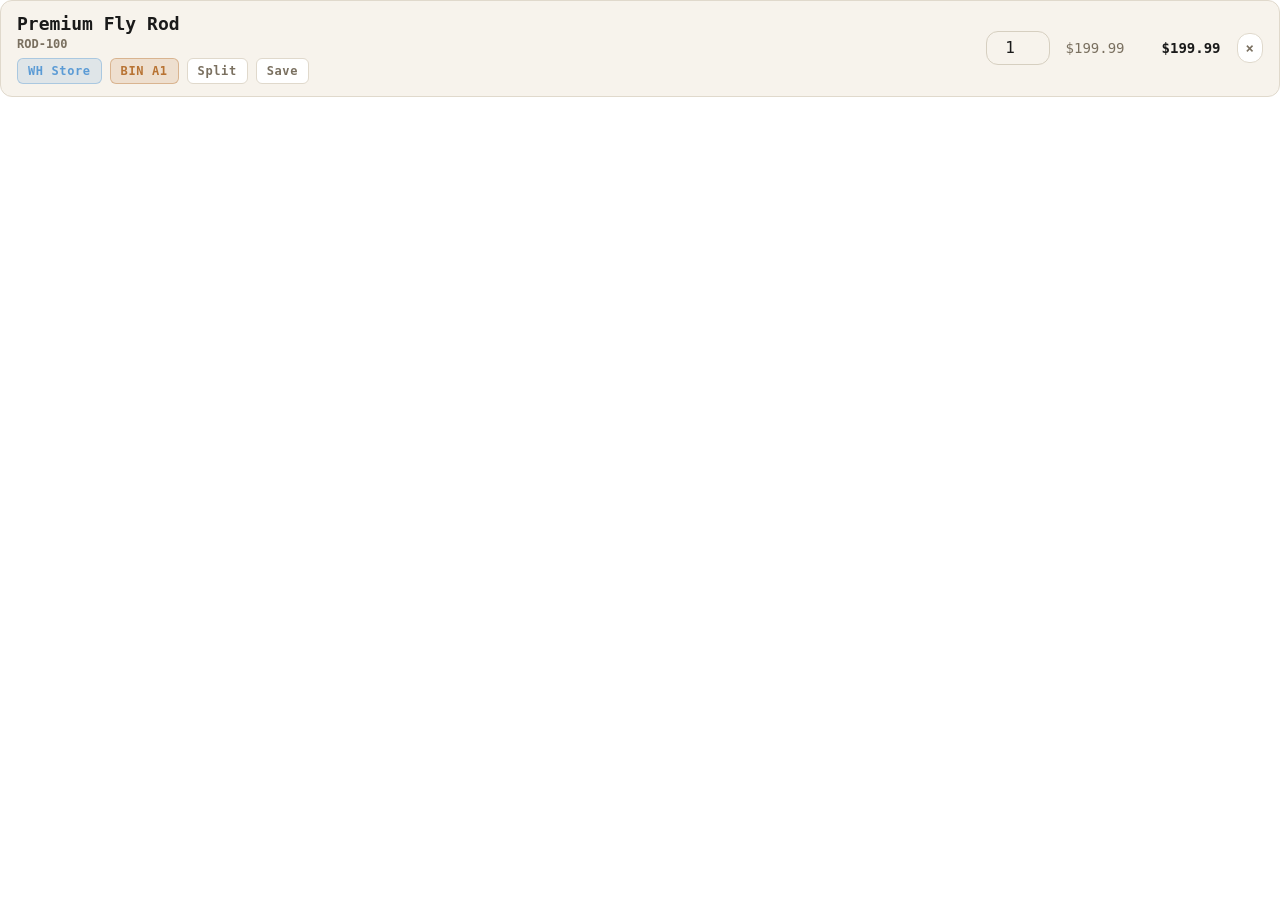
Test: <Cart> › shows the Split badge when multiple warehouses exist and opens the modal on click
The width and height of the screenshot is (1280, 900).
Click the button with aria-label "split rod-100".
click(217, 70)  # box [187, 58, 248, 84]
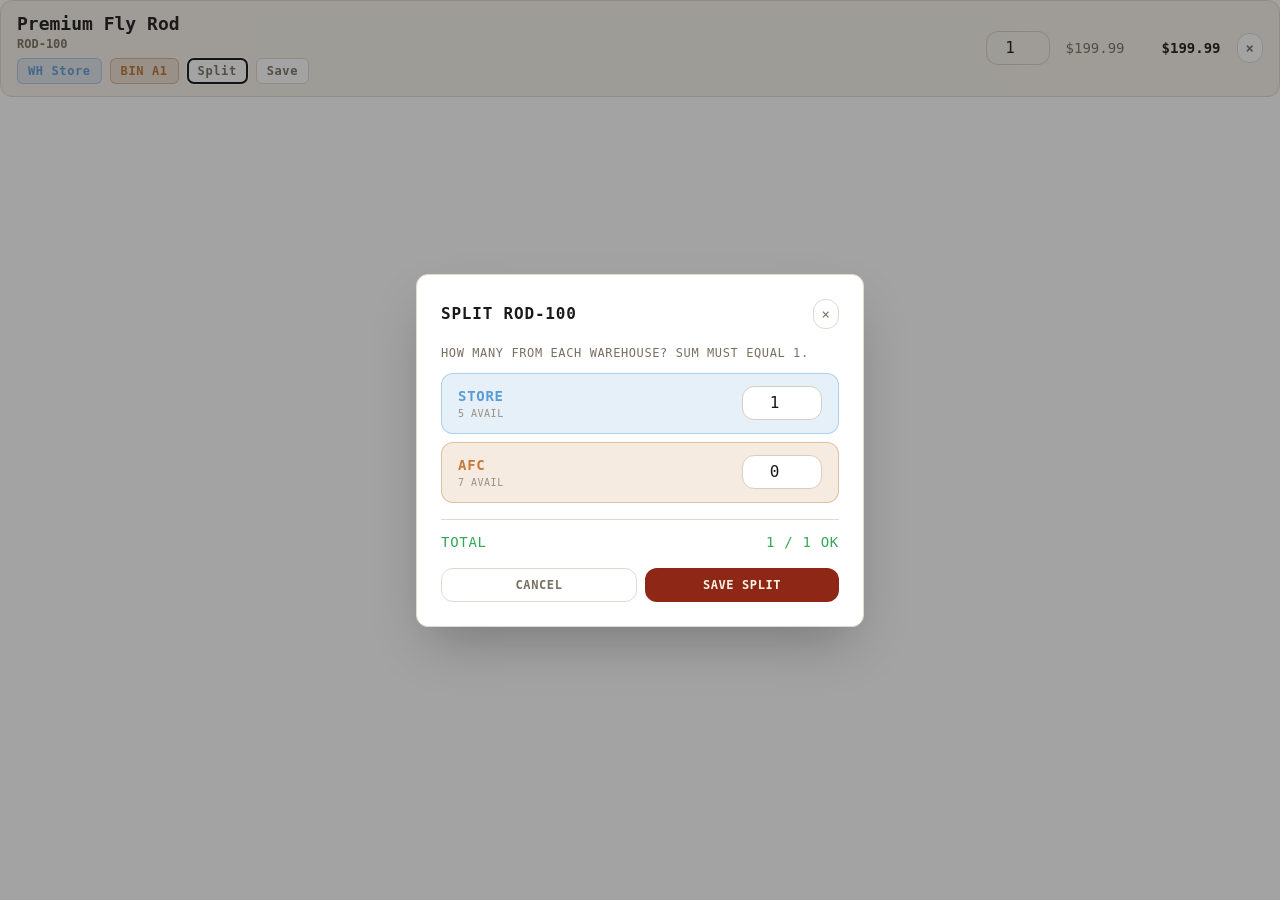
Check: the dialog "Split ROD-100" is shown
